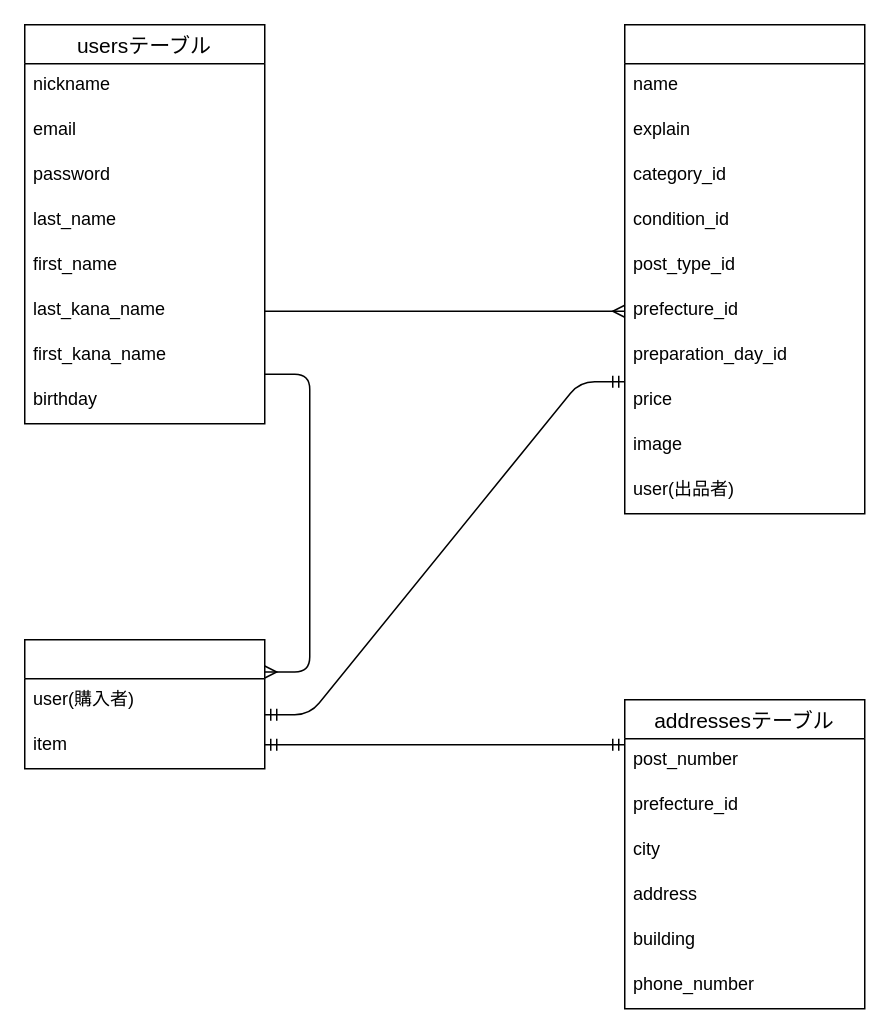
This 890x1034 diagram has some shape labels left out. Here are the shapes that lost their labels. From the top down, the box of each, then its label:
(623, 23, 865, 514): itemsテーブル
(23, 638, 265, 769): ordersテーブル
